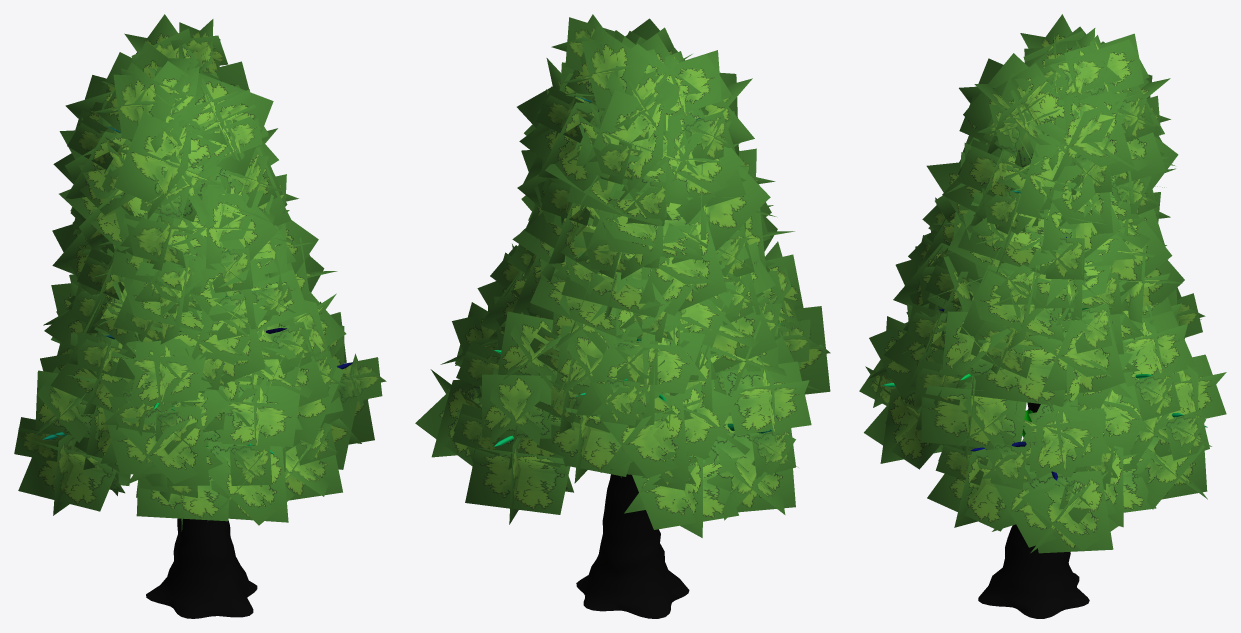
Rendered from Tree01.fbx.
3 views of the same model, side by side, from view 1: azimuth 30°, elevation 25°; view 2: azimuth 150°, elevation 25°; view 3: azimuth 270°, elevation 25° (orthographic). The views are drawn at different scales.
Parts seen in each view (by area): view 1: leafs_bs_01_1, tileplane_defaultmaterial_basemap_0; view 2: leafs_bs_01_1, tileplane_defaultmaterial_basemap_0; view 3: leafs_bs_01_1, tileplane_defaultmaterial_basemap_0.
Part boxes in pixels (x1,y1,x2,y2): leafs_bs_01_1: (14, 14, 386, 531); tileplane_defaultmaterial_basemap_0: (43, 126, 352, 618); leafs_bs_01_1: (415, 14, 830, 537); tileplane_defaultmaterial_basemap_0: (477, 96, 781, 618); leafs_bs_01_1: (859, 14, 1226, 553); tileplane_defaultmaterial_basemap_0: (882, 190, 1207, 618).
Bounding box in the file's own units: 303 × 448 × 268.
